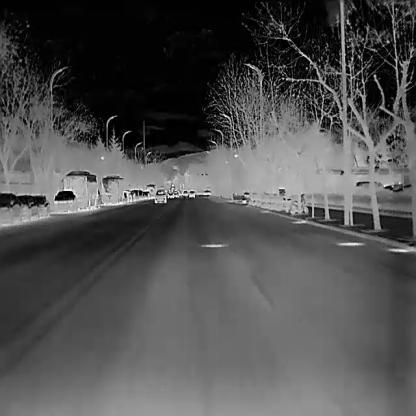car: (58, 169, 97, 214), (0, 191, 24, 223), (101, 174, 124, 206), (53, 189, 79, 212), (18, 194, 37, 224), (35, 195, 49, 220), (154, 188, 166, 204), (145, 183, 157, 197), (188, 190, 194, 198)
